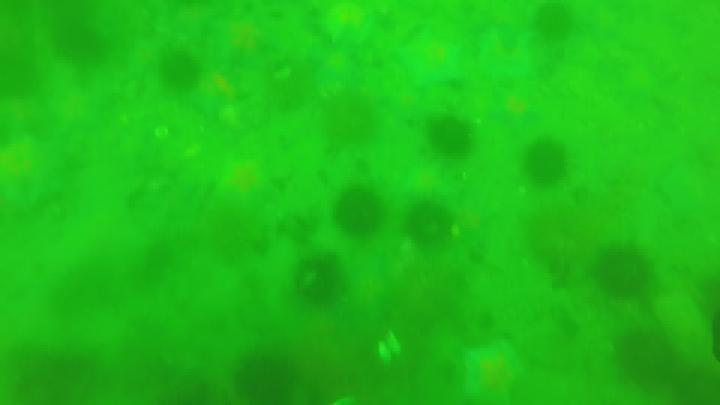echinus: (605, 325, 683, 388), (585, 247, 648, 298), (54, 14, 107, 65), (335, 184, 384, 239), (522, 138, 573, 190), (238, 356, 296, 401), (402, 202, 458, 247), (424, 114, 473, 158), (157, 49, 200, 89), (313, 258, 350, 303), (531, 8, 578, 41), (7, 53, 34, 103)
scallop: (377, 331, 402, 363)
starfish: (207, 153, 286, 223), (465, 343, 525, 405)
